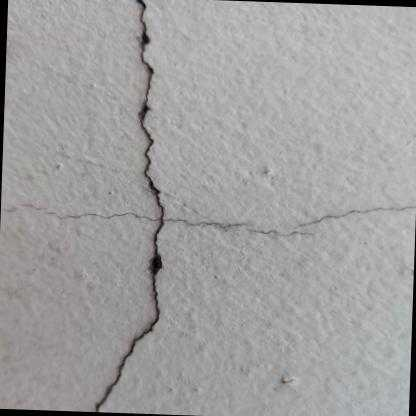crack: (94, 0, 165, 412), (5, 204, 249, 226), (297, 204, 416, 225), (249, 229, 311, 237)
